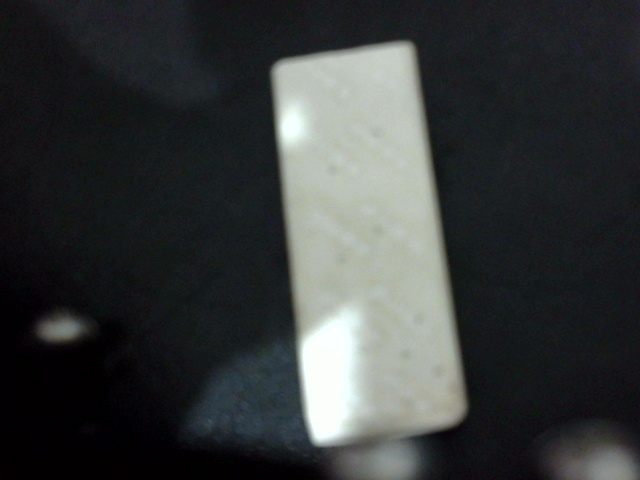eraser: (253, 46, 473, 450)
